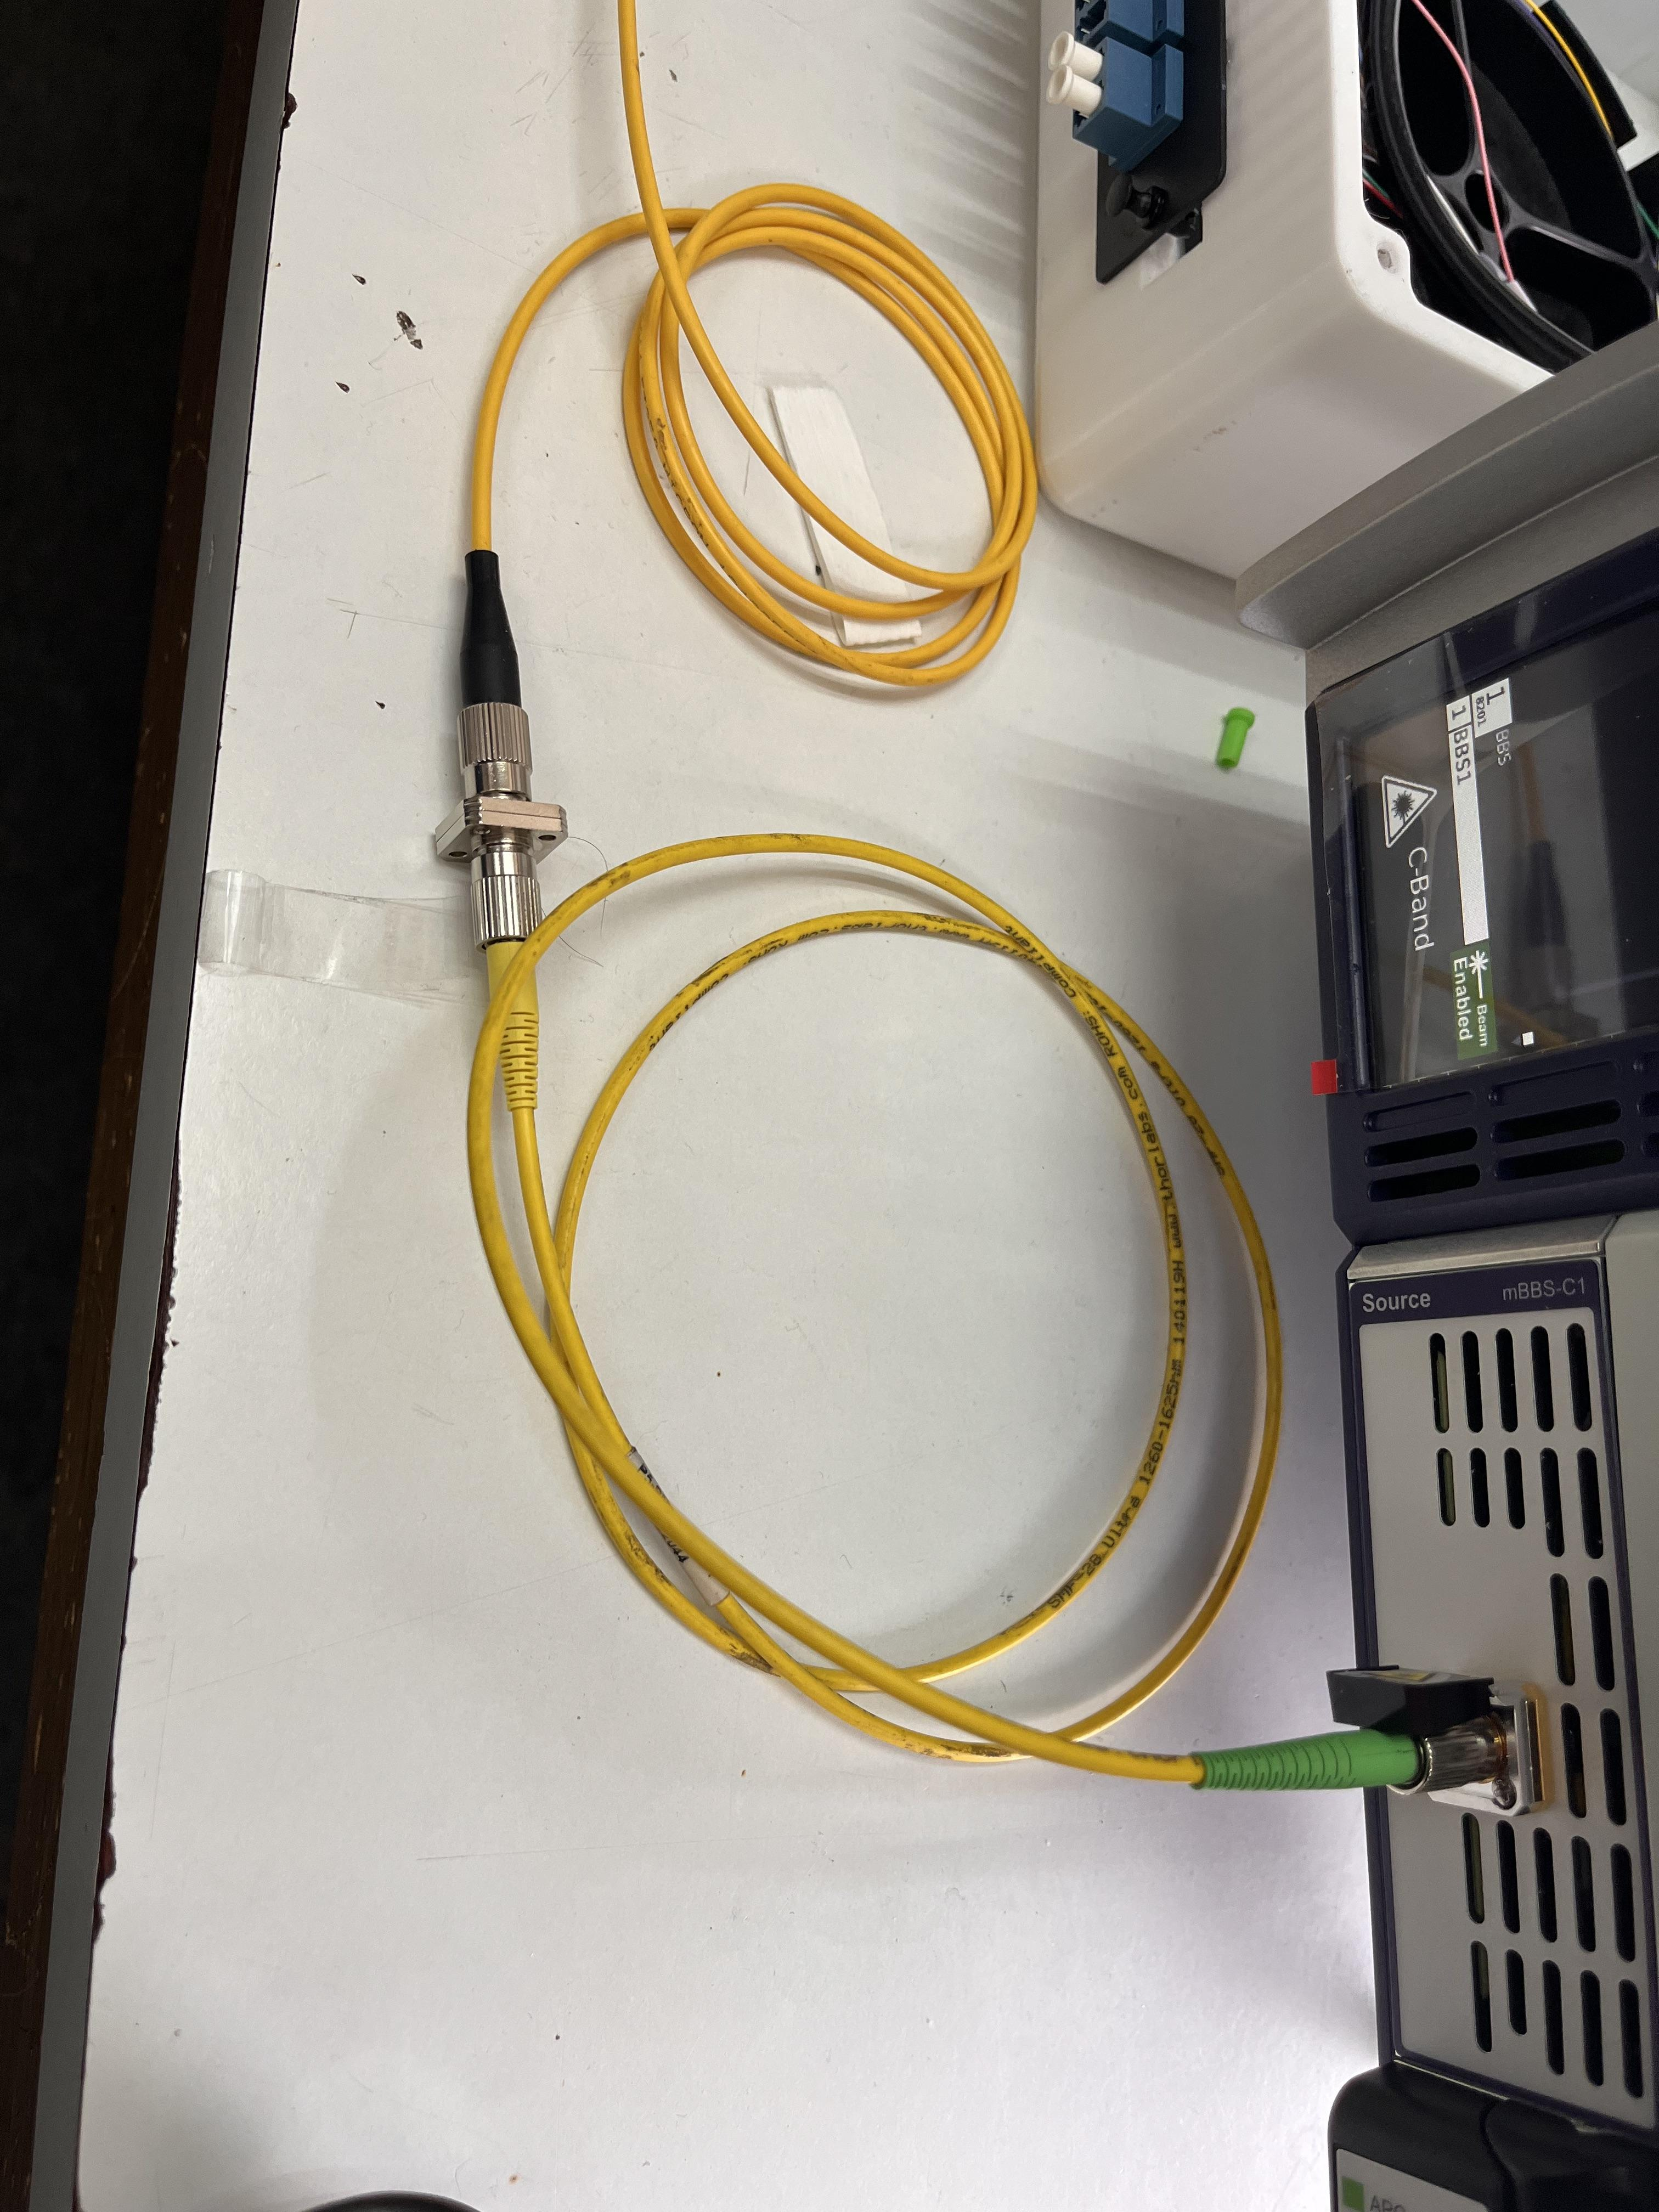fiber_cable: (448, 5, 1380, 1832)
